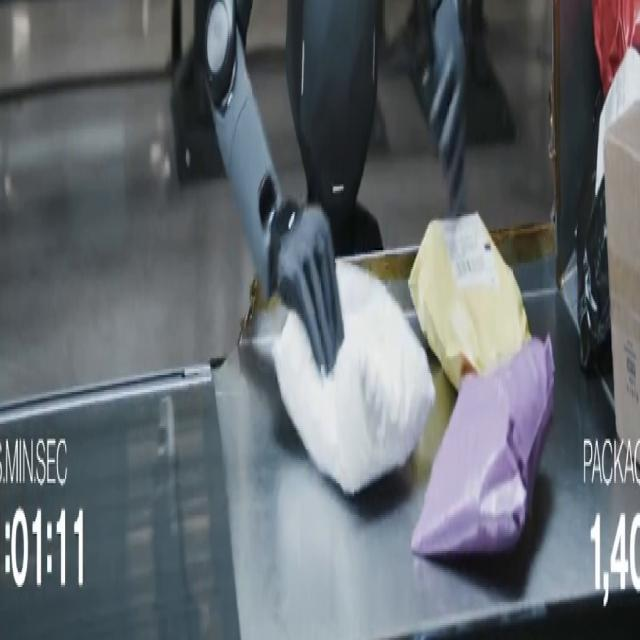package: (273, 261, 435, 493), (412, 337, 554, 557), (409, 212, 529, 389), (576, 49, 639, 372), (605, 102, 639, 447), (575, 92, 610, 375), (592, 0, 639, 95)
